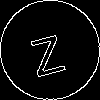Z: (25, 25, 67, 78)
